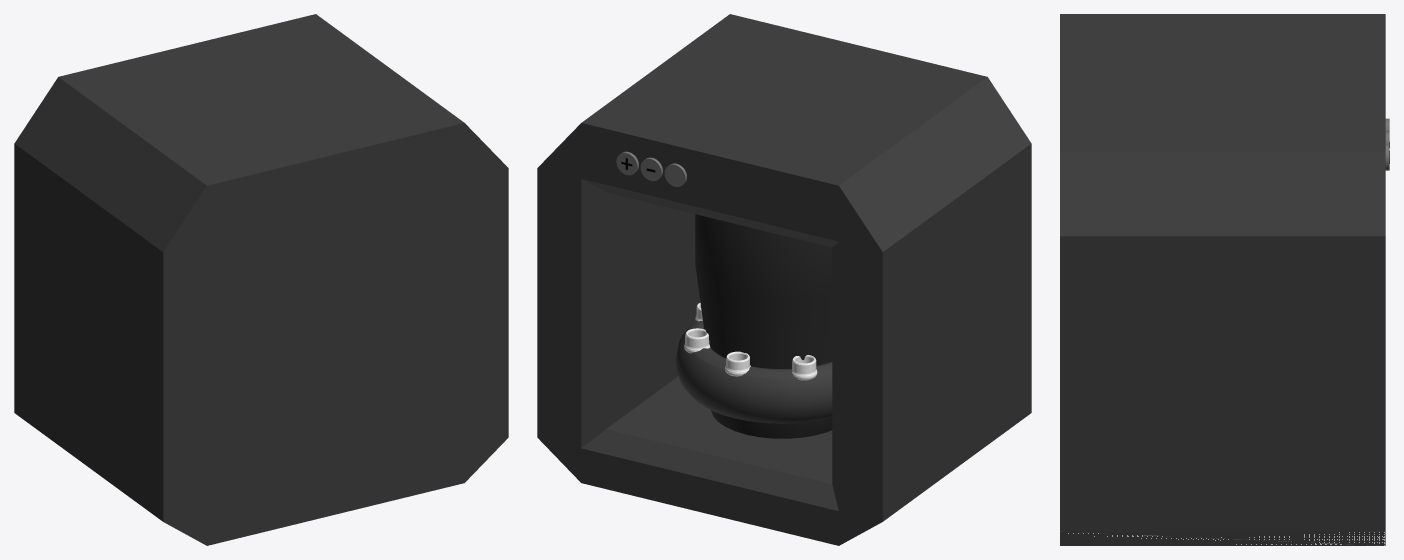
Rendered from centrigugeuse.obj.
The picture shows the model from 3 angles, left to right: view 1: azimuth 30°, elevation 25°; view 2: azimuth 150°, elevation 25°; view 3: azimuth 270°, elevation 25°; orthographic projection. The views are drawn at different scales.
Visible parts, largest first — view 1: Cube_Cube.002; view 2: Cube_Cube.002; view 3: Cube_Cube.002.
Part boxes in pixels (<box>): Cube_Cube.002: <box>14,14,508,545</box>; Cube_Cube.002: <box>537,14,1031,545</box>; Cube_Cube.002: <box>1060,14,1389,545</box>.
Size of the model in its own units: 0.7954 by 0.7929 by 0.6011.
6 materials, 6 textured.
